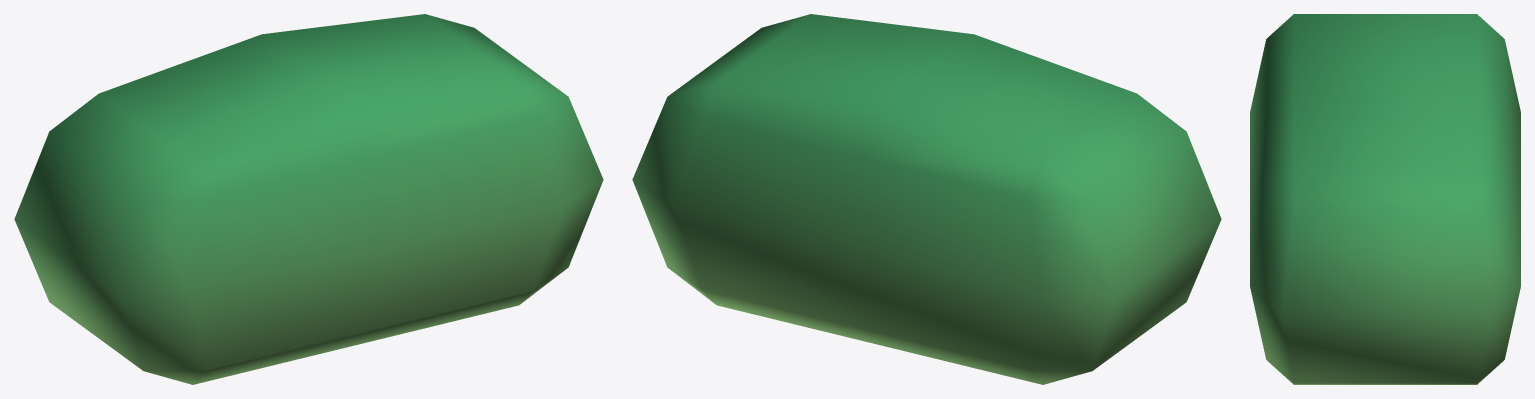
Rendered from bush.fbx.
3 views of the same model, side by side, from view 1: azimuth 30°, elevation 25°; view 2: azimuth 150°, elevation 25°; view 3: azimuth 270°, elevation 25° (orthographic). The views are drawn at different scales.
Visible parts, largest first — view 1: Cube.002; view 2: Cube.002; view 3: Cube.002.
Boxes of the visible parts, bbox=[...] form: Cube.002: bbox=[14, 14, 603, 384]; Cube.002: bbox=[632, 14, 1221, 384]; Cube.002: bbox=[1250, 14, 1520, 384].
Bounding box in the file's own units: 113 × 56.73 × 54.39.
